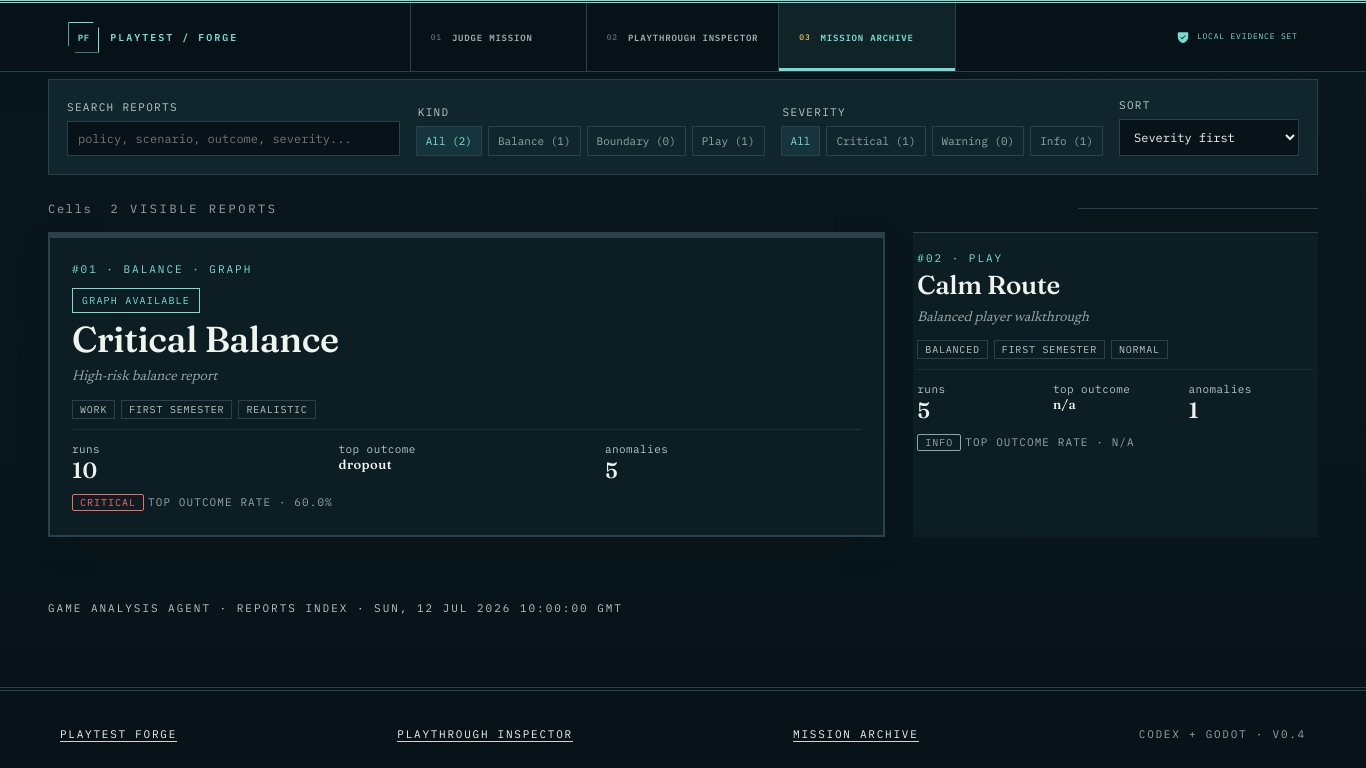
it: application routes › navigates from a report card to the issue page
(page scrolled)
Click the link "Calm Route" at [1116, 384], box [913,232,1318,537]
(page scrolled)
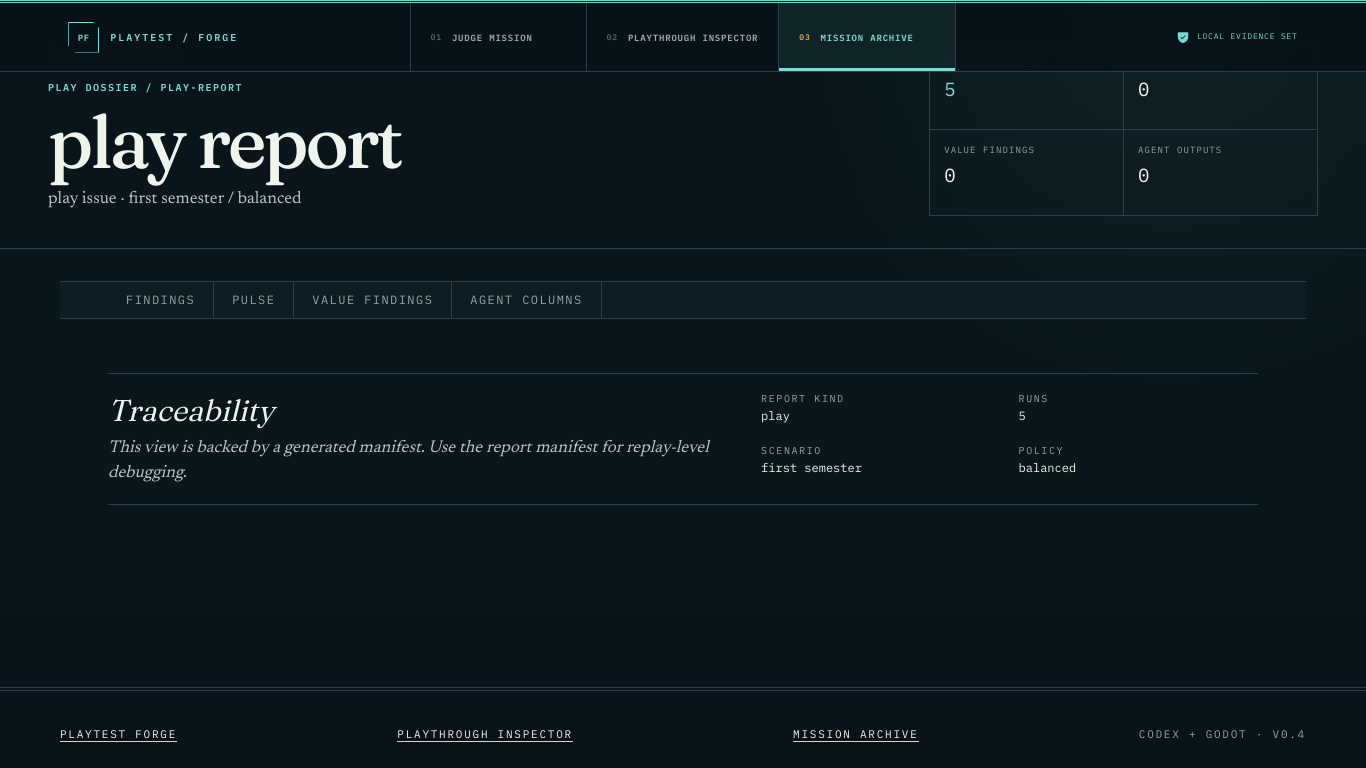
Now the heading "play report" is shown, box [48,96,400,187]
Now the text "play issue · first semester / balanced" is shown, box [48,191,302,208]
